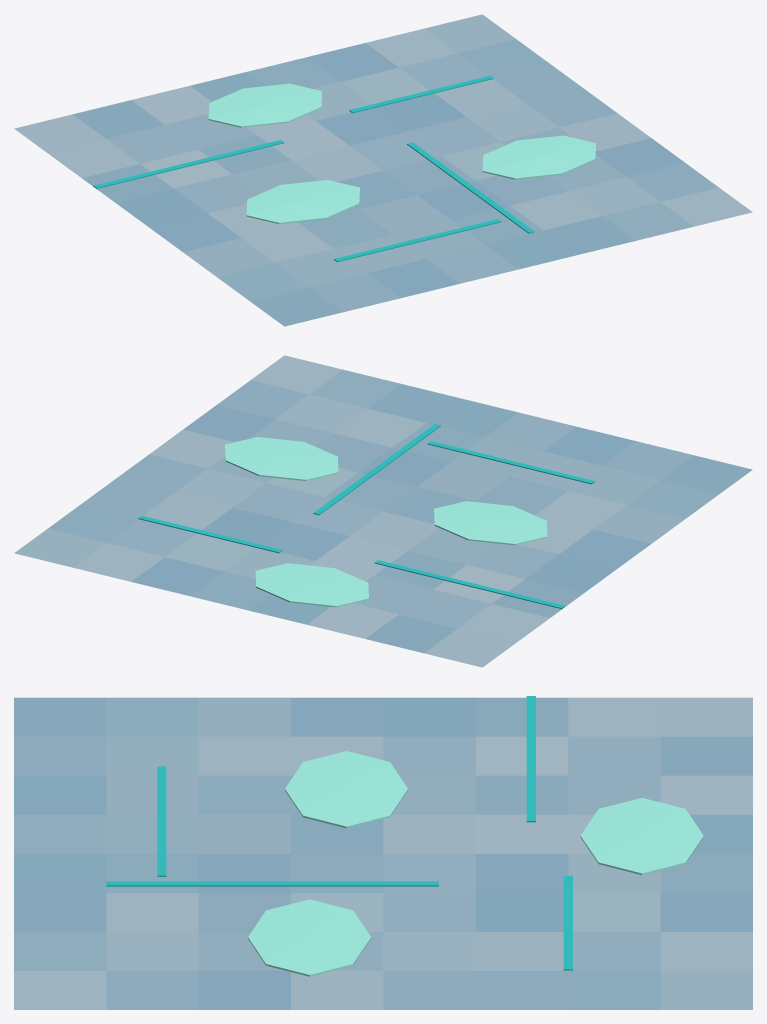
Rendered from ice_lake.glb.
3 views of the same model, one above another, from view 1: azimuth 30°, elevation 25°; view 2: azimuth 150°, elevation 25°; view 3: azimuth 270°, elevation 25° (orthographic). The views are drawn at different scales.
Parts seen in each view (by area): view 1: ice_lake; view 2: ice_lake; view 3: ice_lake.
Boxes of the visible parts, x1,y1,x2,y2 form: ice_lake: (14,14,752,326); ice_lake: (14,355,752,667); ice_lake: (14,696,752,1009).
Size of the model in its own units: 4 by 0.021 by 4.
